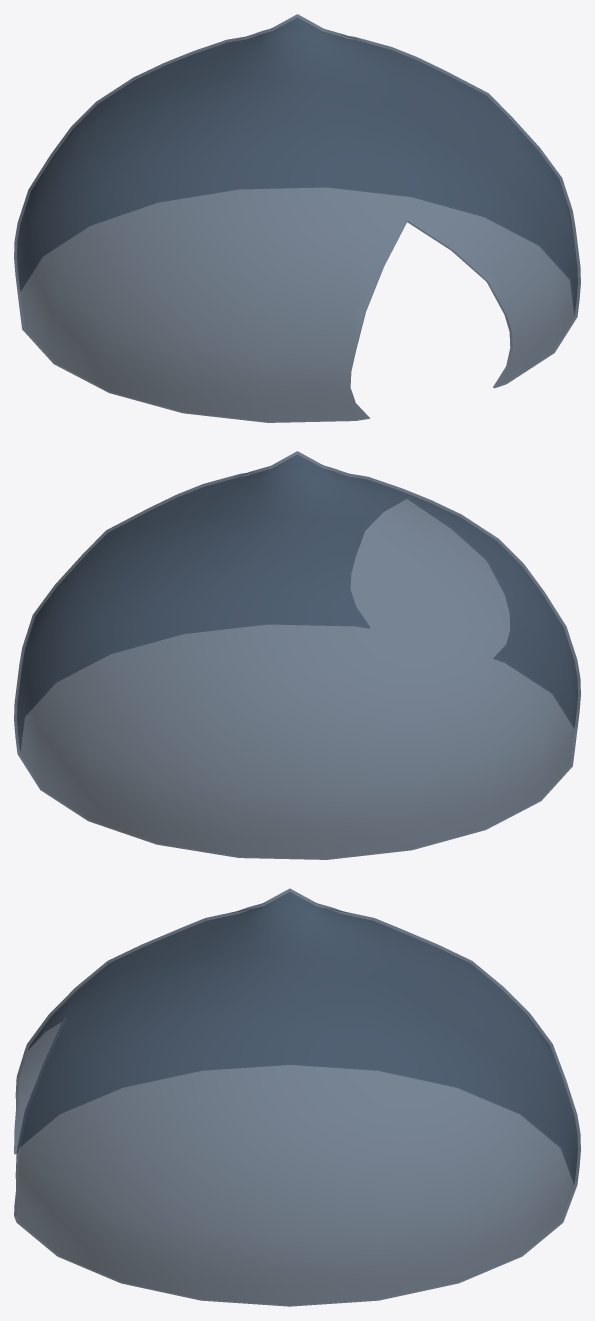
File: The Sacred Life Tree LP.fbx
3 renders of one model, top to bottom at view 1: azimuth 30°, elevation 25°; view 2: azimuth 150°, elevation 25°; view 3: azimuth 270°, elevation 25°, orthographic. The views are drawn at different scales.
Visible parts, largest first — view 1: The_Sacred_Life_Tree; view 2: The_Sacred_Life_Tree; view 3: The_Sacred_Life_Tree.
Part boxes in pixels (<box>): The_Sacred_Life_Tree: <box>14,14,580,422</box>; The_Sacred_Life_Tree: <box>14,451,580,859</box>; The_Sacred_Life_Tree: <box>14,888,580,1306</box>.
Bounding box in the file's own units: 13.91 × 7.82 × 13.54.
